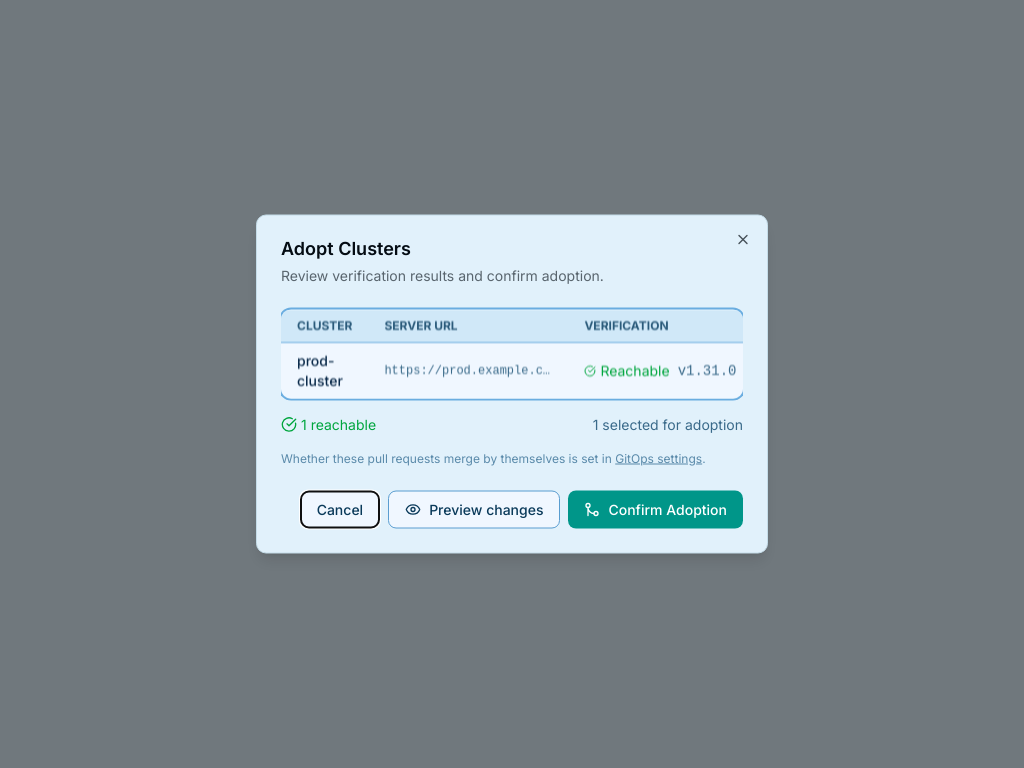
Test case: AdoptClustersDialog › episode 3 dry run: what adopt shows and asks › finding 4: a preview that fails shows every reason, in the review step
This screenshot has width=1024, height=768.
Click the button "Preview changes": click(474, 510) [388,490,560,528]
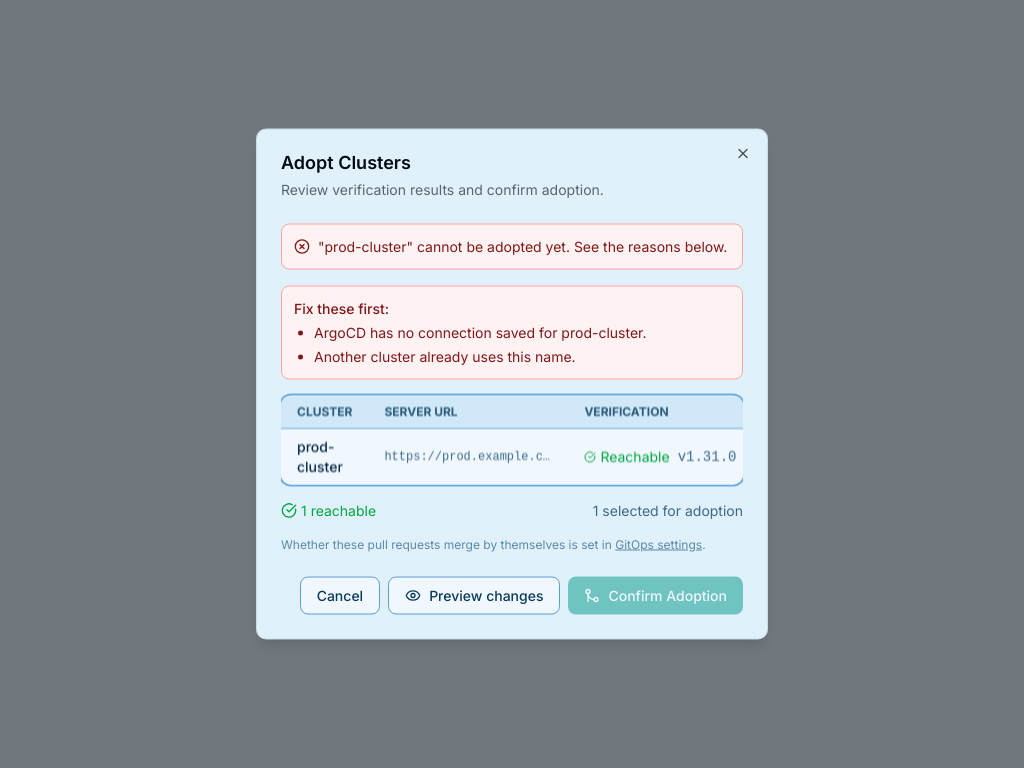
Check: the list item "ArgoCD has no connection saved for prod-cluster." is shown, box [314,324,646,340]
Check: the list item "Another cluster already uses this name." is shown, box [314,348,576,364]
Check: the text "\"prod-cluster\" cannot be adopted yet. See the reasons below." is shown, box [318,236,727,256]
